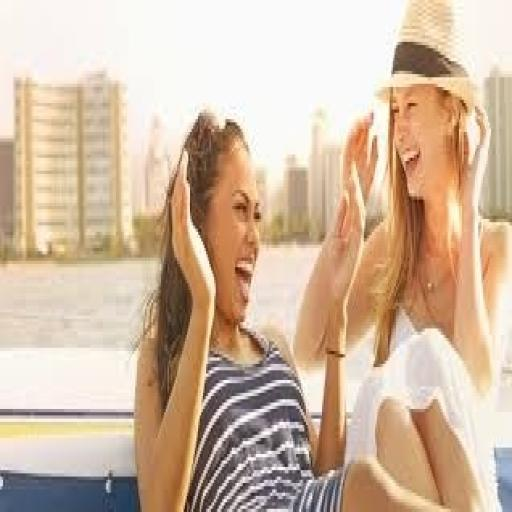laughing: (124, 6, 507, 506)
